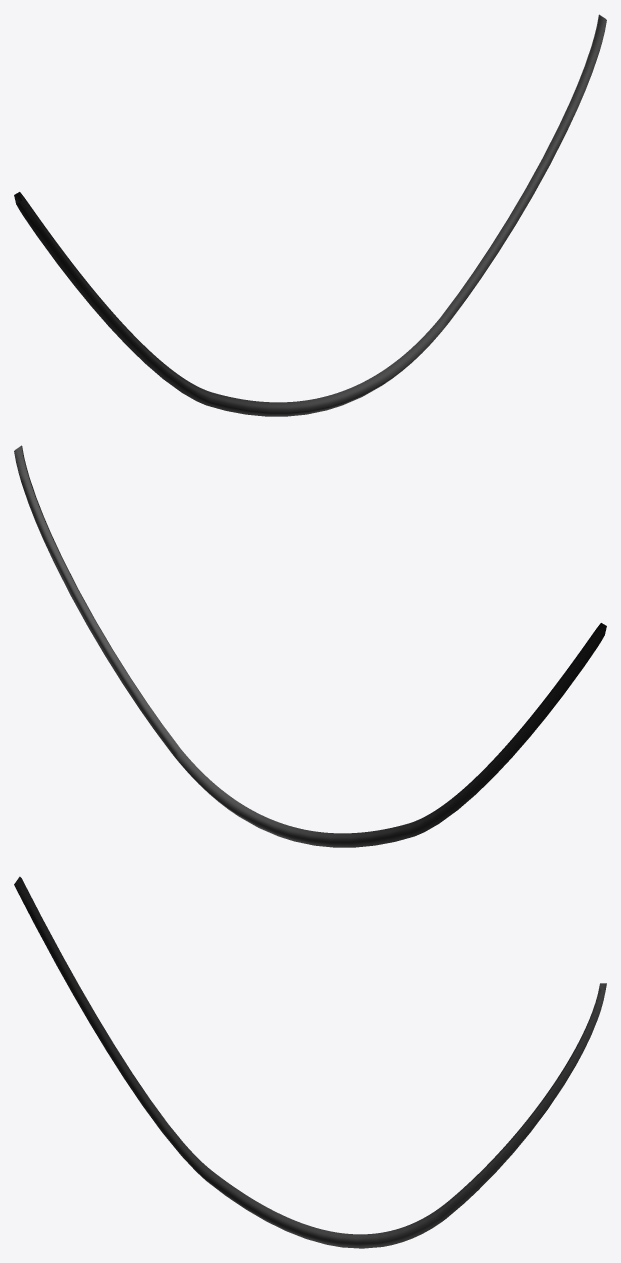
The model's file is Cable_rope.fbx.
The picture shows the model from 3 angles, top to bottom: view 1: azimuth 30°, elevation 25°; view 2: azimuth 150°, elevation 25°; view 3: azimuth 330°, elevation 25°; orthographic projection.
Parts seen in each view (by area): view 1: cable_4_Anim; view 2: cable_4_Anim; view 3: cable_4_Anim.
Boxes of the visible parts, x1,y1,x2,y2 form: cable_4_Anim: (14,14,606,416); cable_4_Anim: (14,445,606,847); cable_4_Anim: (14,876,606,1248).
Bounding box in the file's own units: 22.25 × 11.83 × 0.5269.
